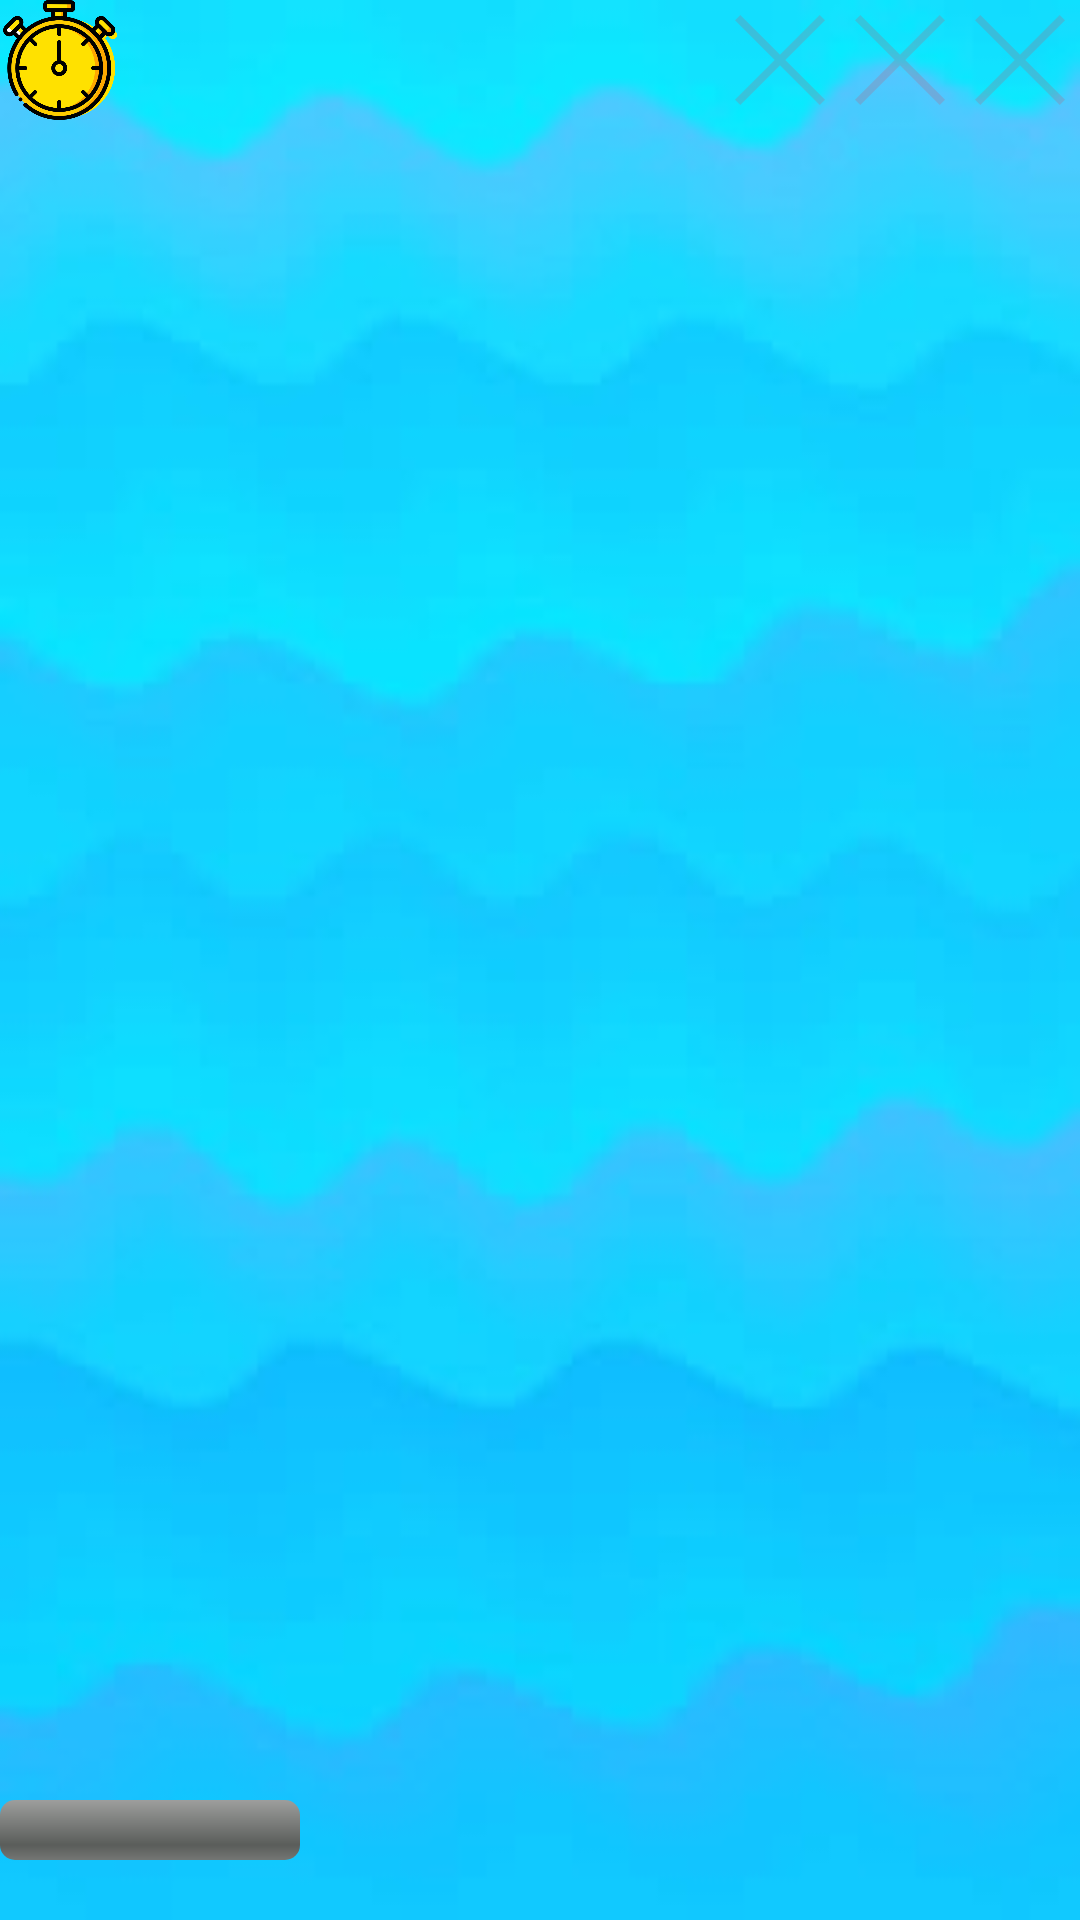

Icon click points for this 1080×1920 phone screenshot, format (x,y):
clock: (60,60)
